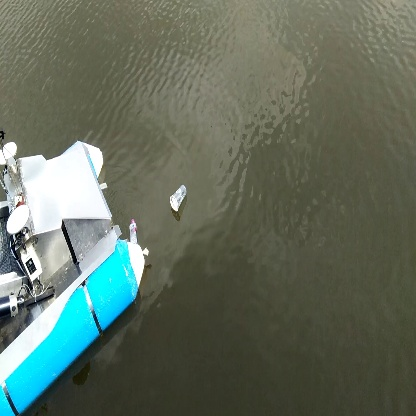bottle: (168, 181, 189, 211)
